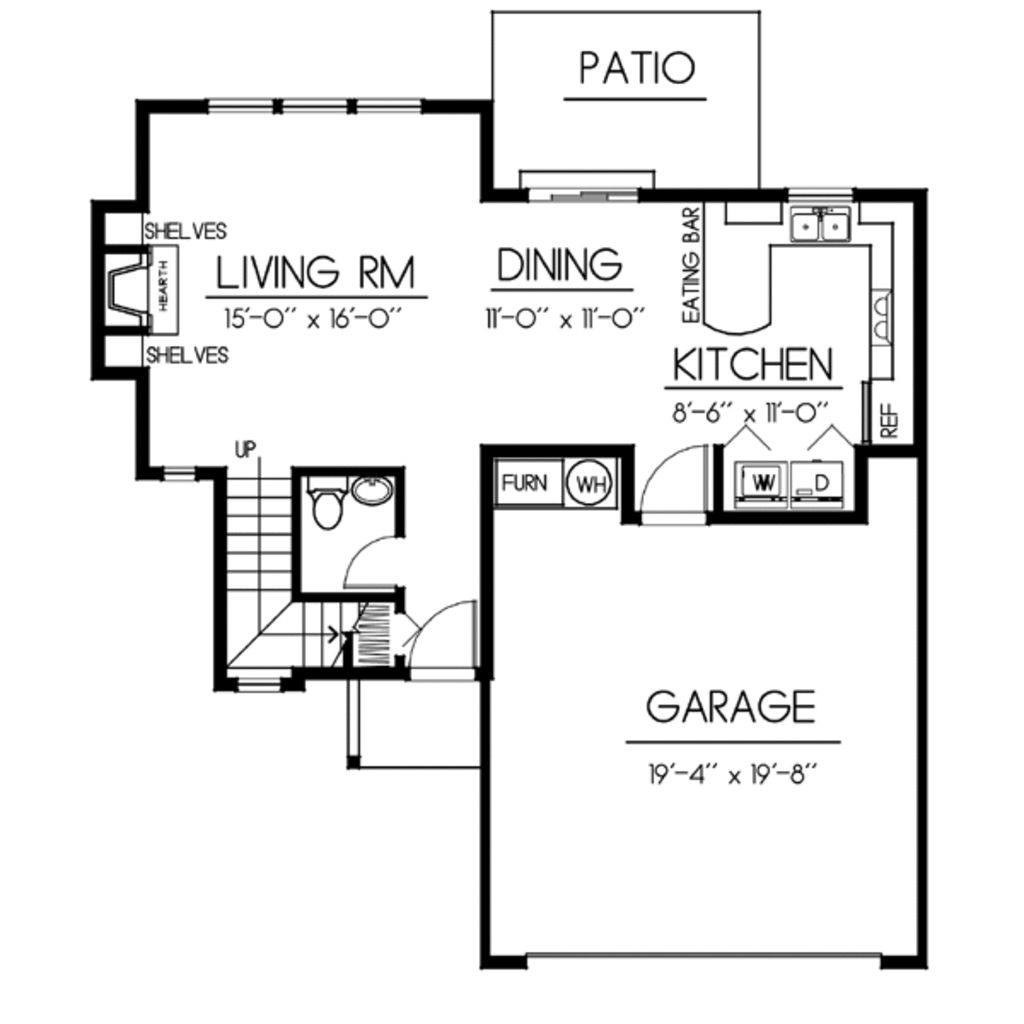door: (627, 432, 739, 522), (394, 591, 484, 702)
large_sink: (302, 467, 353, 536)
small_sink: (352, 471, 394, 505)
stairs: (219, 467, 388, 674)
twin_sink: (772, 202, 864, 250)
window: (202, 85, 425, 124), (148, 453, 216, 488), (789, 185, 861, 203)
